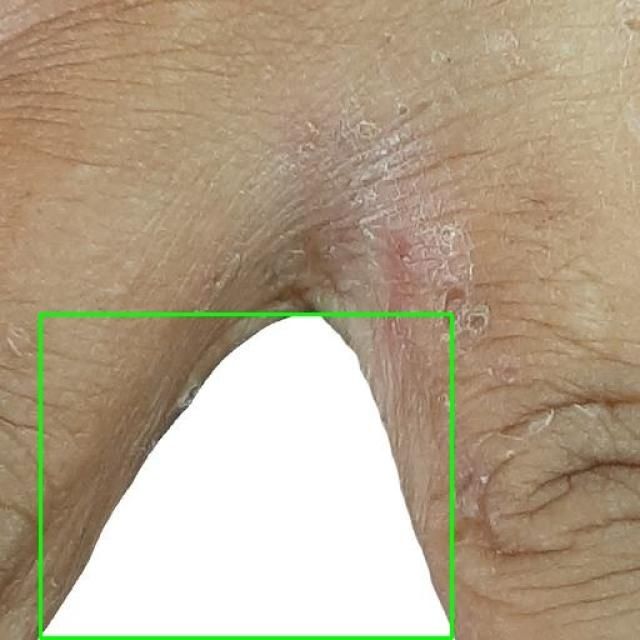Scabies: (40, 314, 452, 639)
